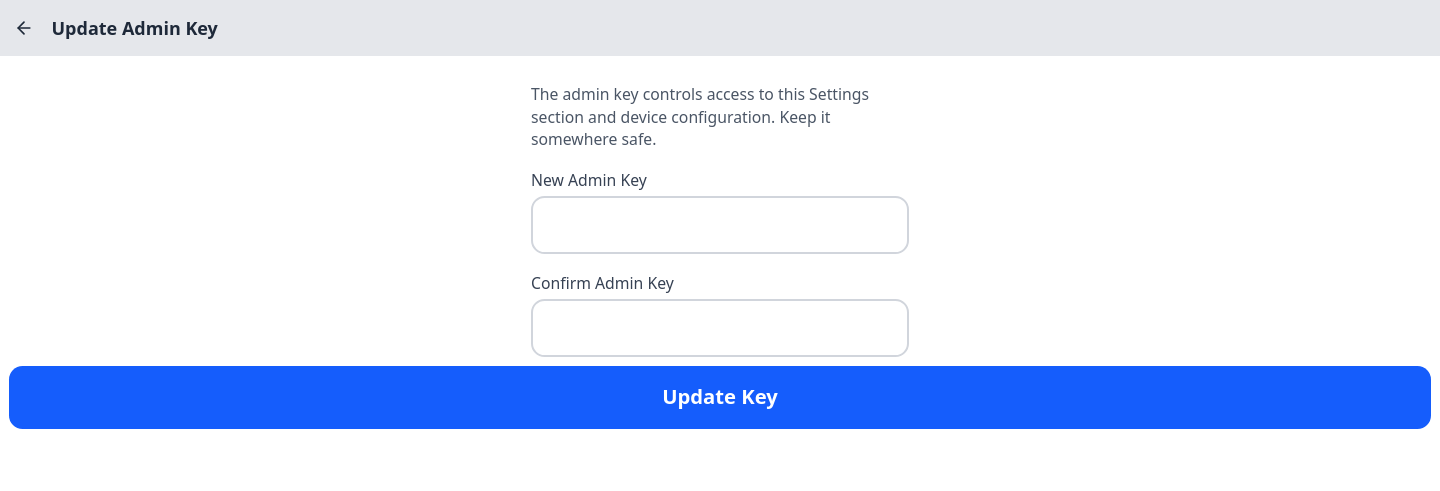
it: UpdateAdminKeyPage › shows the server error message on failure
Type "newsecret" into the password field labelled "New Admin Key" at x=720, y=224, box left=531, top=196, right=909, bottom=254
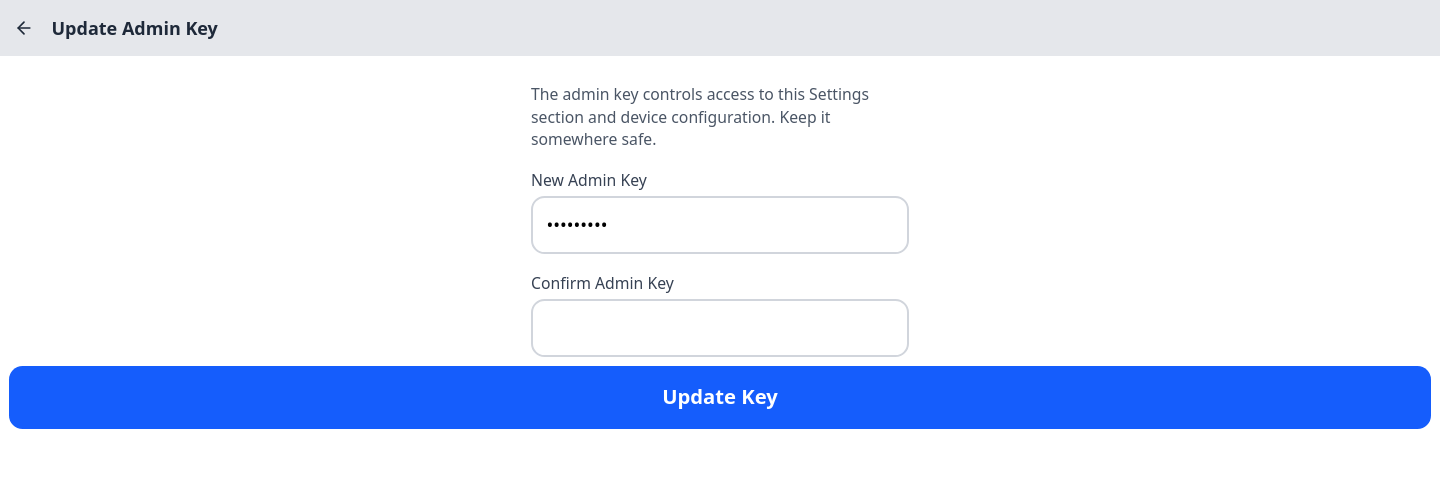
Type "newsecret" into the password field labelled "Confirm Admin Key" at x=720, y=328, box left=531, top=298, right=909, bottom=356
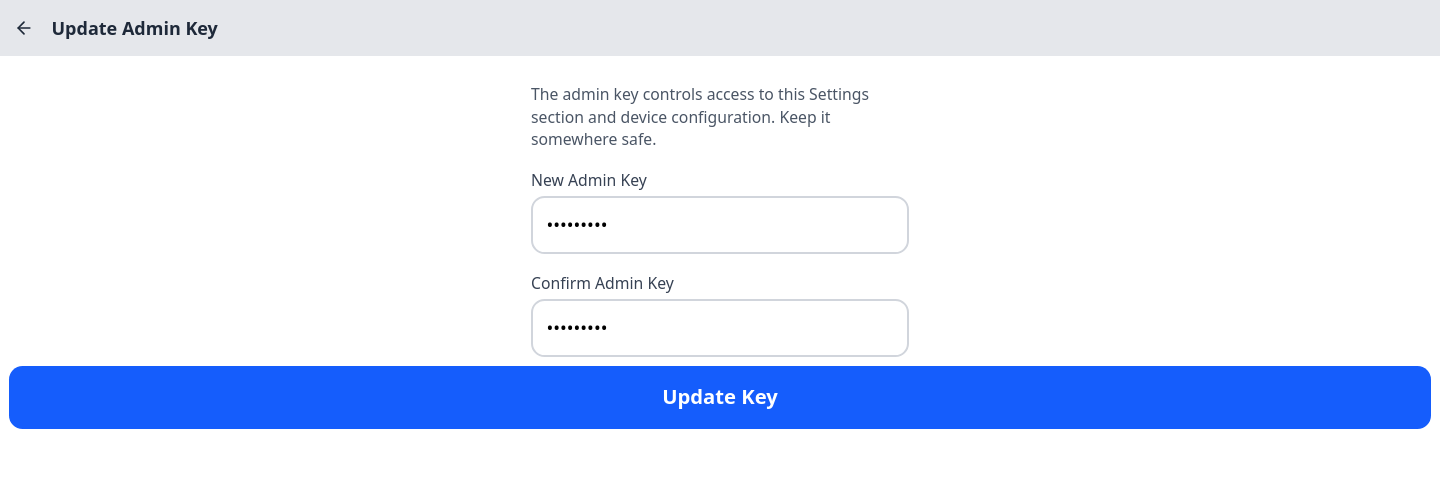
Click the button "Update Key" at x=720, y=397, box left=9, top=366, right=1431, bottom=428
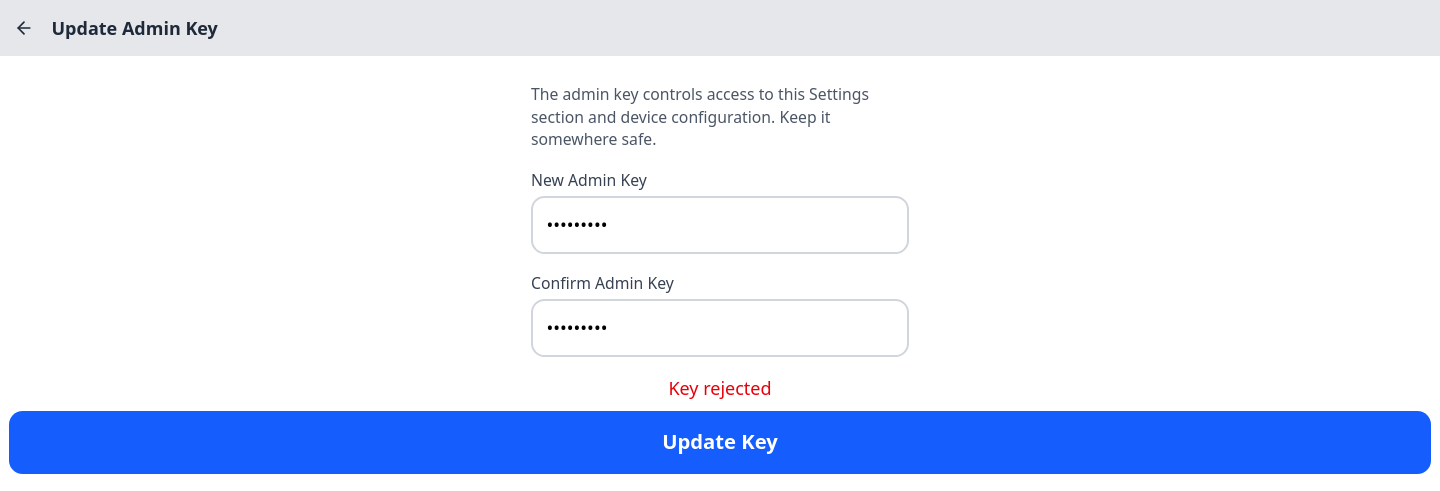
Now the text "Key rejected" is shown, box left=668, top=376, right=772, bottom=400
